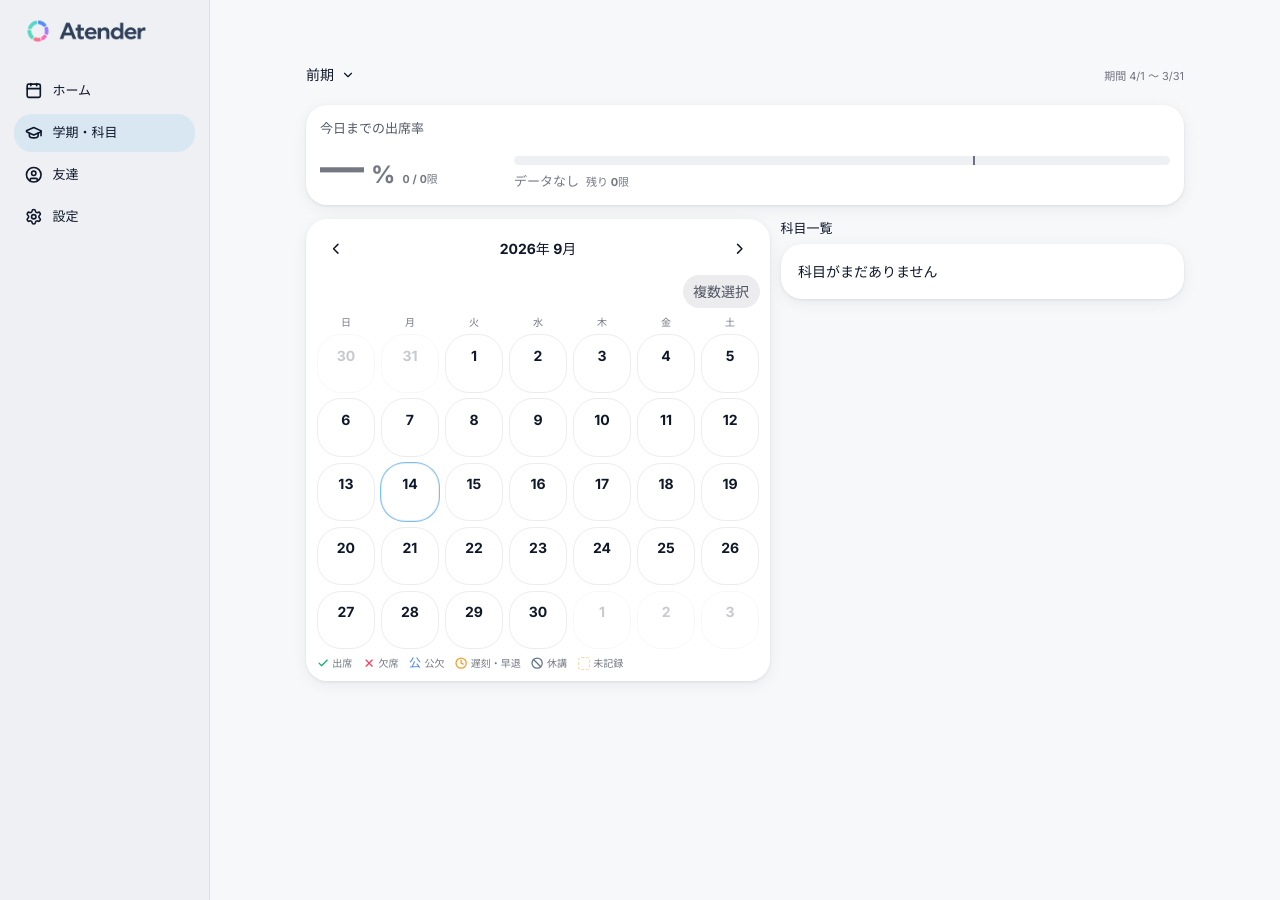
Test case: [D] class transfer in day detail › [D2] transfer summary and 取り消す
Click the button named "9月14日" at x=410, y=492, box top-left (380, 462), bottom-right (439, 521)
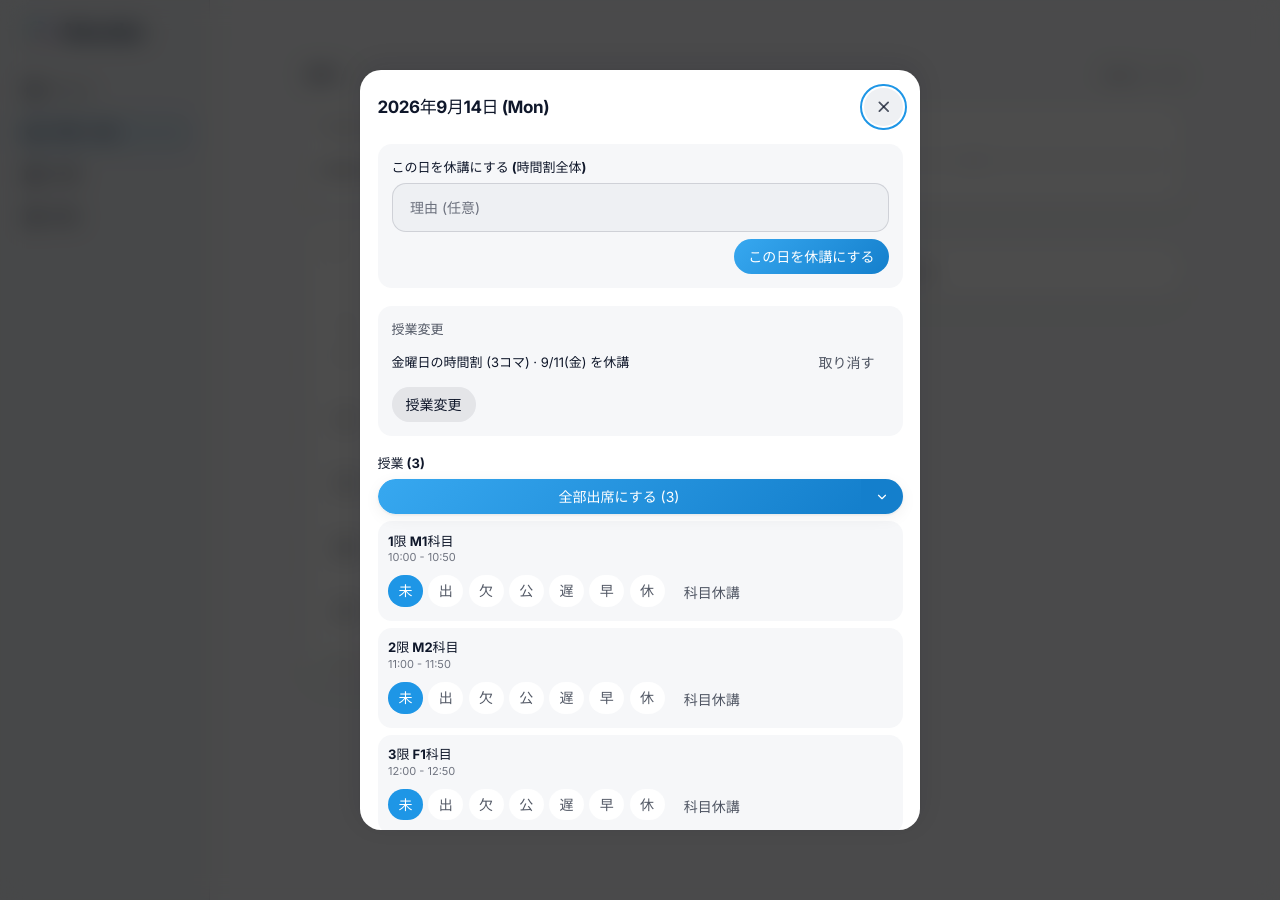
Expected: the heading "2026年9月14日 (Mon)" is shown, top-left (378, 94), bottom-right (549, 120)
Expected: the text "金曜日の時間割 (3コマ) · 9/11(金) を休講" is shown, top-left (392, 353), bottom-right (629, 372)
Expected: the button "取り消す" is shown, top-left (804, 345), bottom-right (888, 380)
